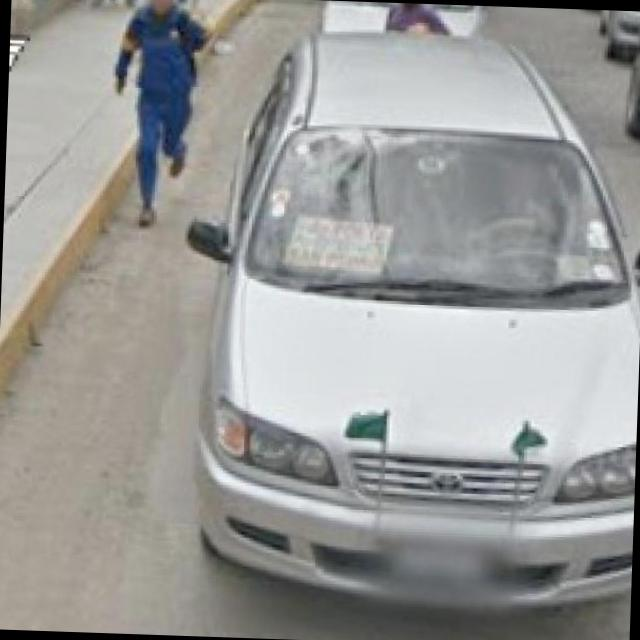car: (194, 38, 640, 625)
